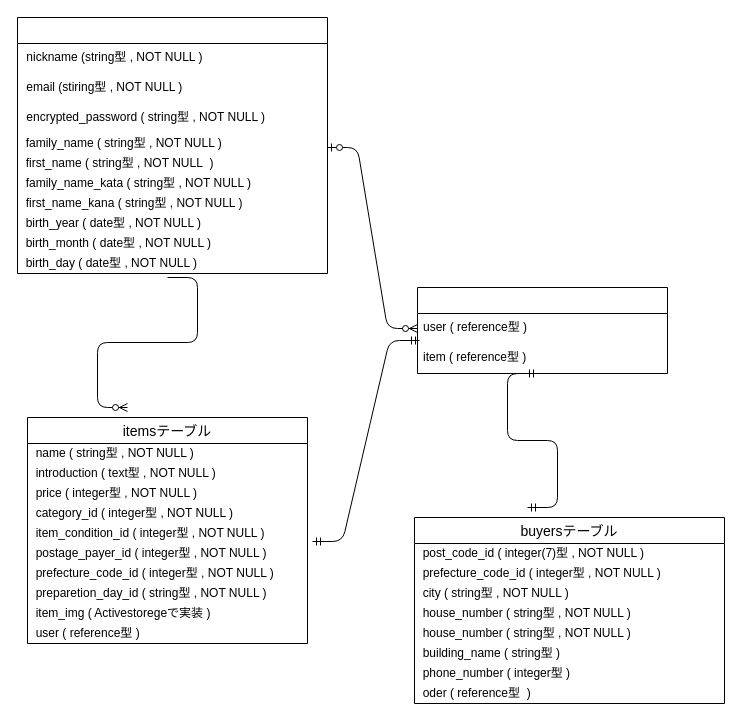
This 742x721 diagram has some shape labels left out. The box of each missing label's shape, as (x1, y1, x2, y2) in pixels:
ordersテーブル: (416, 286, 668, 374)
userテーブル: (16, 16, 328, 274)
